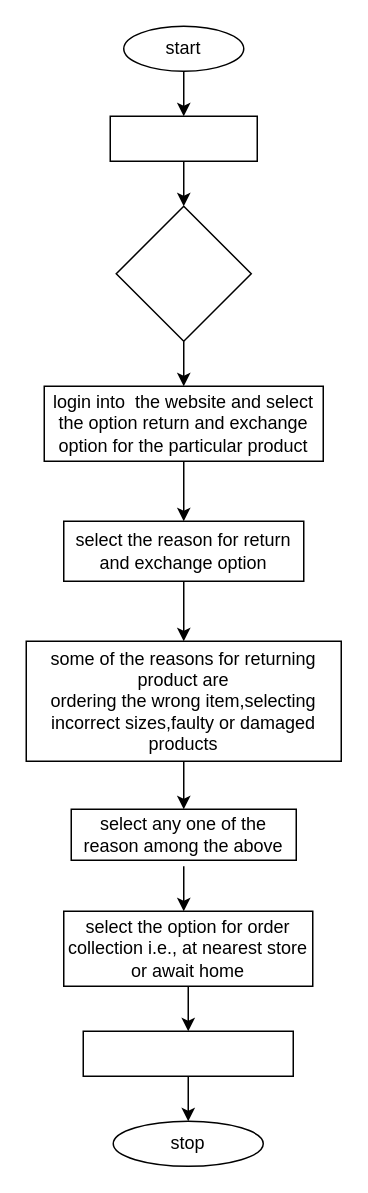
Some shapes in this 368 by 1193 pixel diagram are drawn without their labels. The shapes that lost their labels are listed below. From the top down, each one's centre as x and y in pixels, then its label:
the point at 183,138: order place
the point at 183,273: check the order is valid
the point at 187,1053: track the status of exchange or refund
